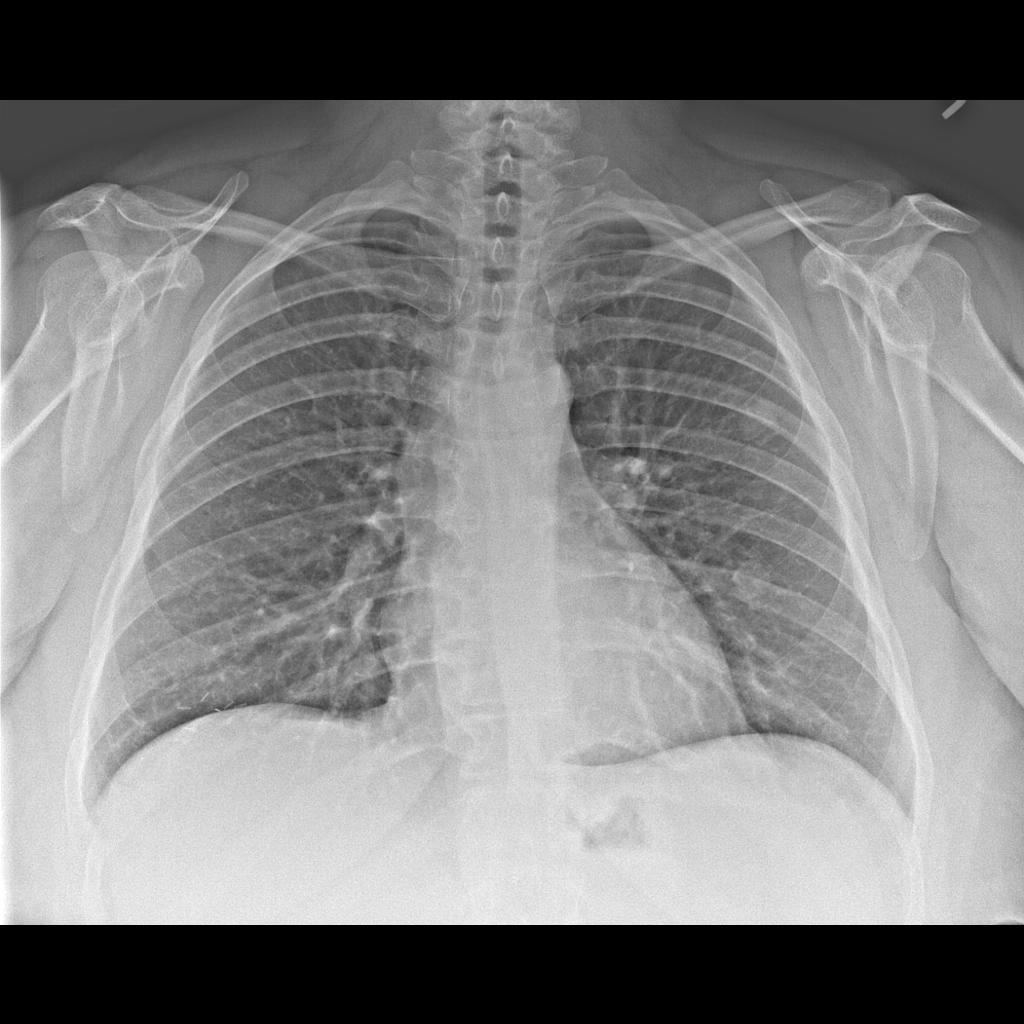Nodule: (737, 396, 786, 446), (731, 553, 771, 606)
